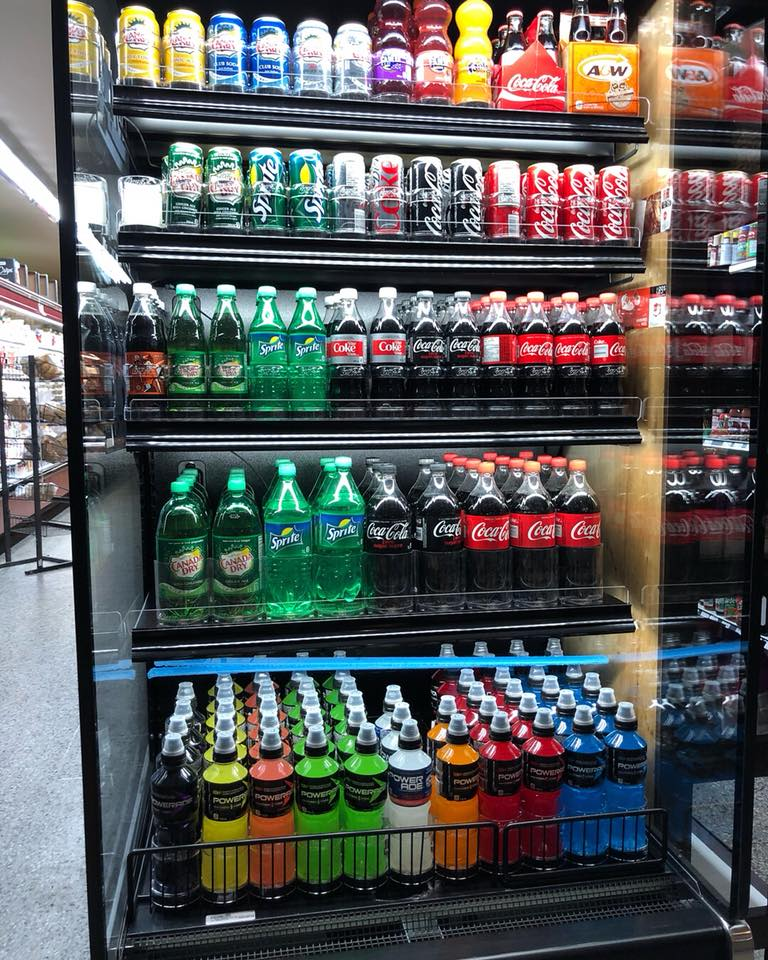A&W: (584, 62, 627, 79)
canadadry: (169, 555, 205, 575), (219, 553, 255, 573)
cocacola: (506, 71, 560, 94), (367, 521, 408, 541), (553, 341, 589, 359), (520, 341, 553, 358), (450, 339, 482, 353)
dietcoke: (378, 338, 403, 352), (332, 342, 358, 353)
powerade: (390, 771, 425, 791), (150, 795, 195, 810), (345, 783, 387, 796)
sprite: (253, 160, 281, 221), (269, 532, 300, 550), (327, 524, 356, 543), (293, 342, 320, 359), (257, 340, 284, 356)
